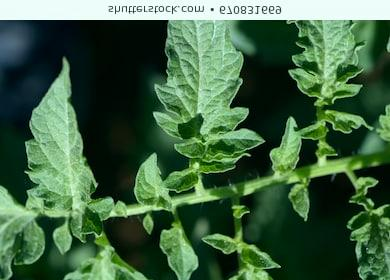Tomato leaf mosaic virus: (26, 53, 102, 215), (148, 22, 243, 150), (156, 214, 202, 277), (131, 150, 174, 214), (268, 113, 305, 180), (162, 165, 197, 192)
